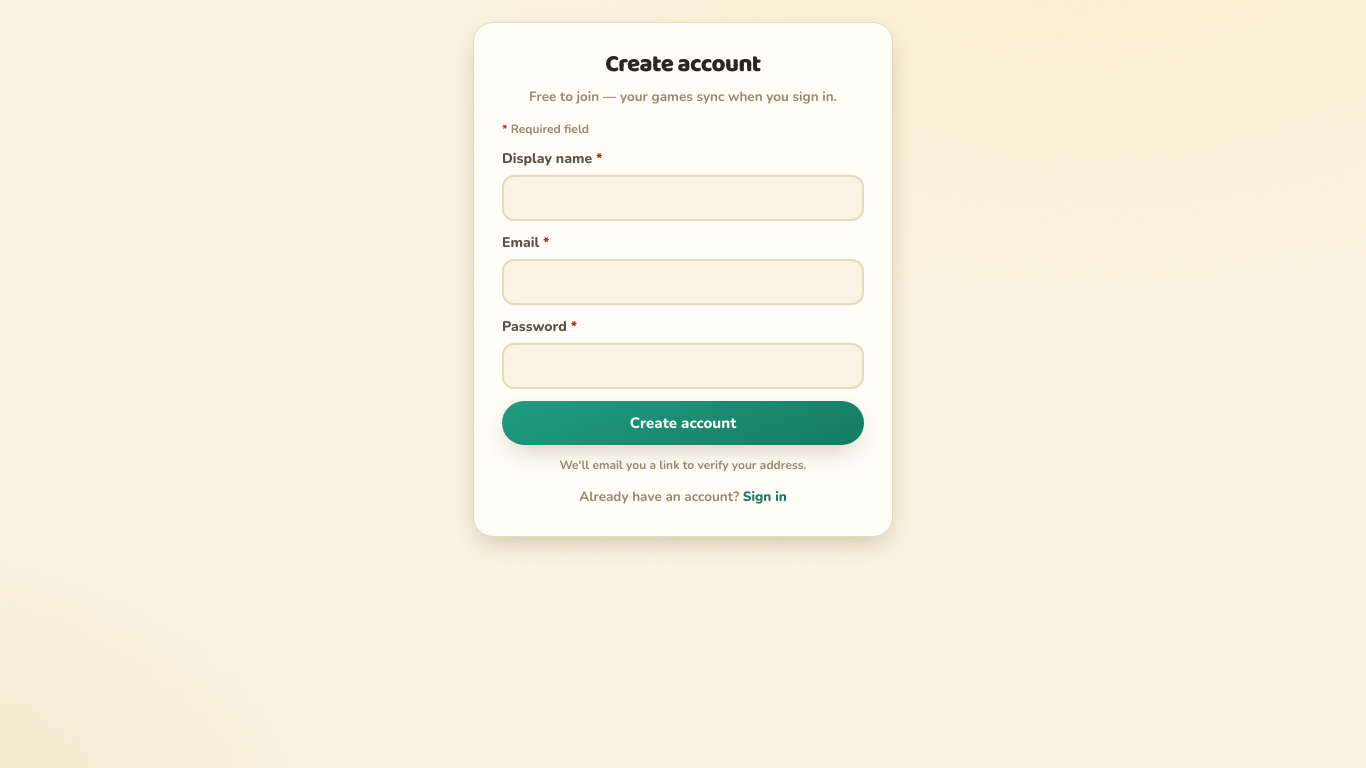
Test: AuthScreen › blocks register submit without a password
The width and height of the screenshot is (1366, 768).
Check: the heading "Create account" is shown, box [605,45,761,84]
In the field labelled "Display name *": (683,198) [502,175,864,221], type "Dang"
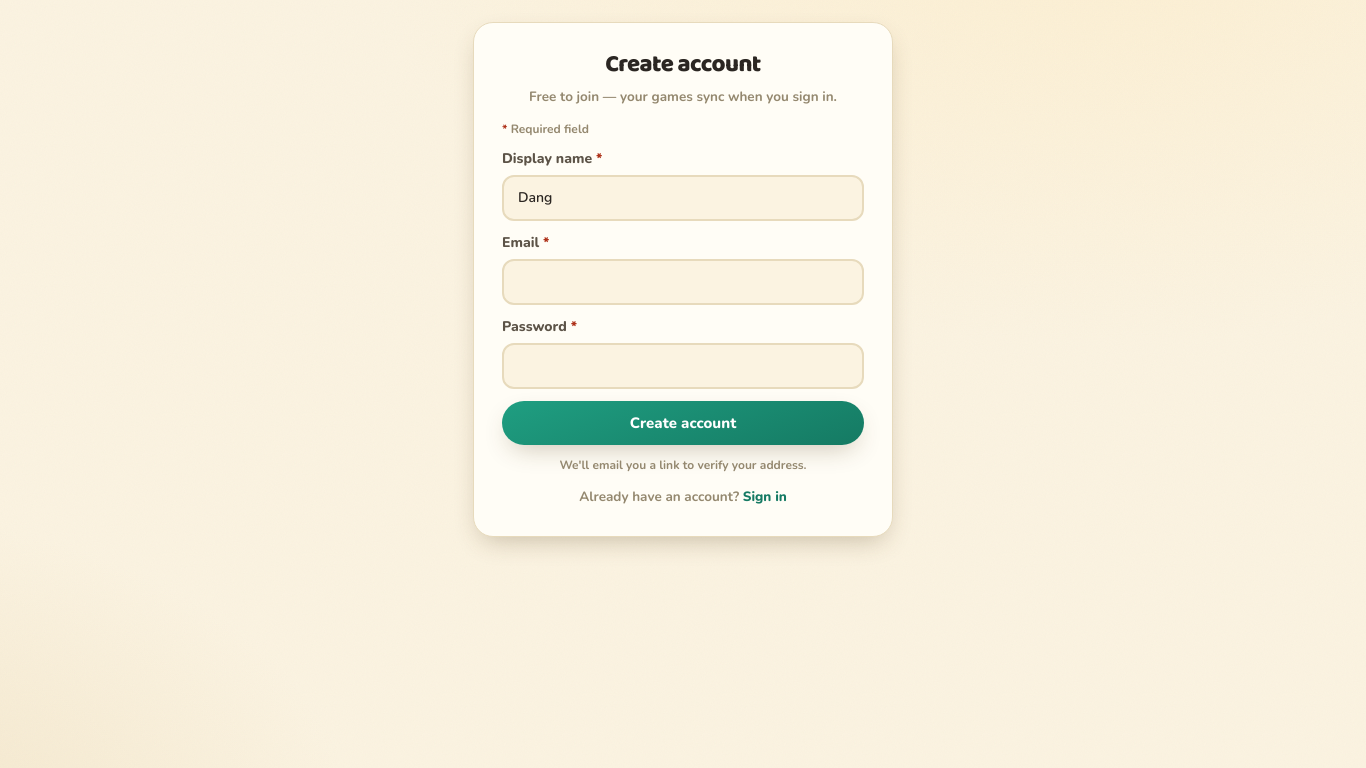
In the field labelled "Email *": (683,282) [502,259,864,305], type "a@example.com"
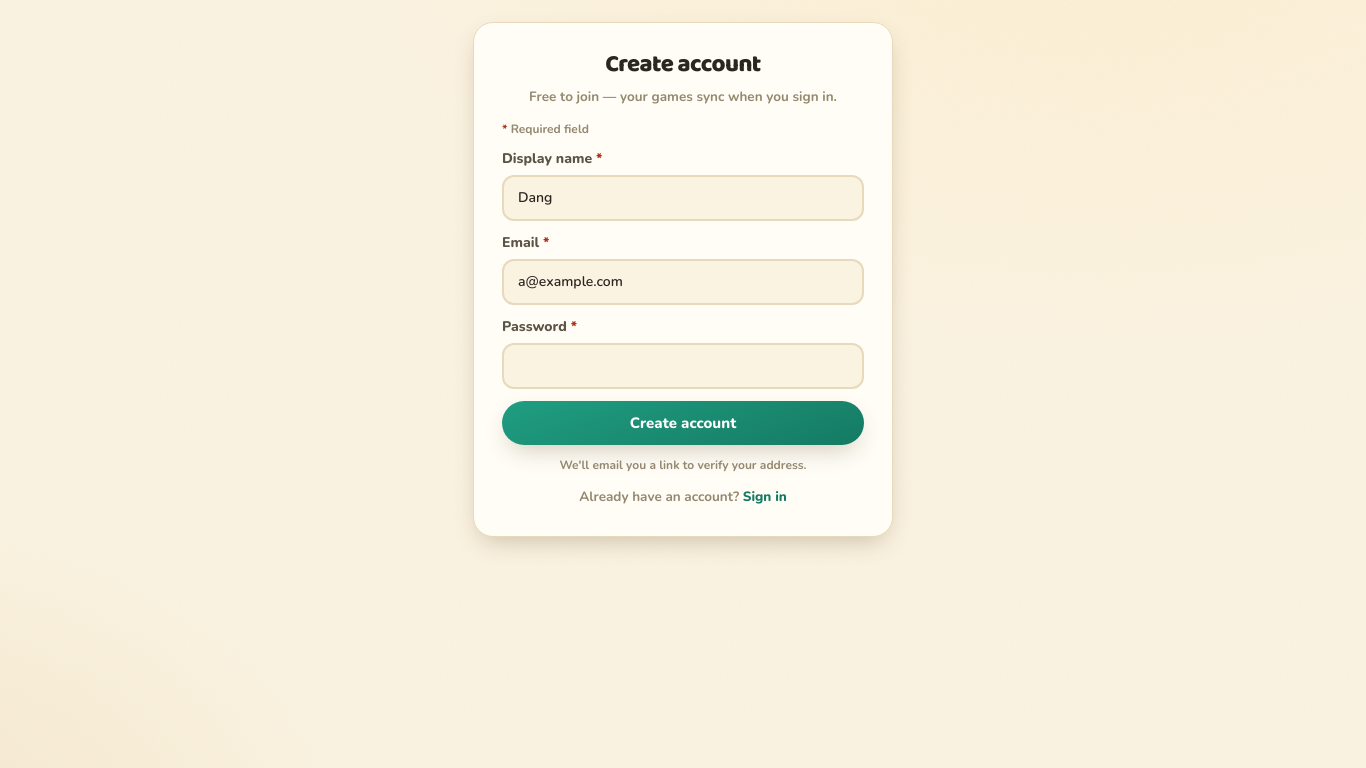
Submit the form from the button "Create account", box [502,401,864,445]
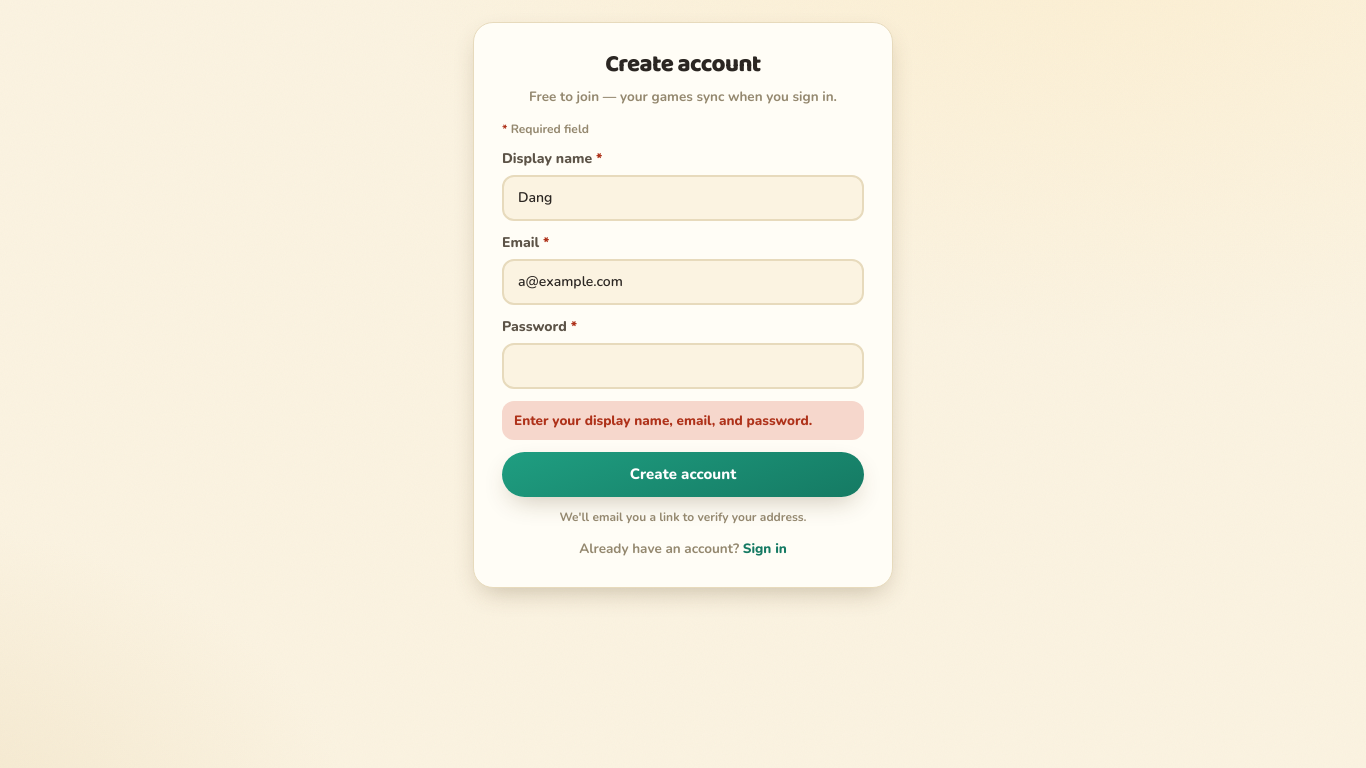
Check: the message reads "Enter your display name, email, and password.", box [514,411,812,430]
